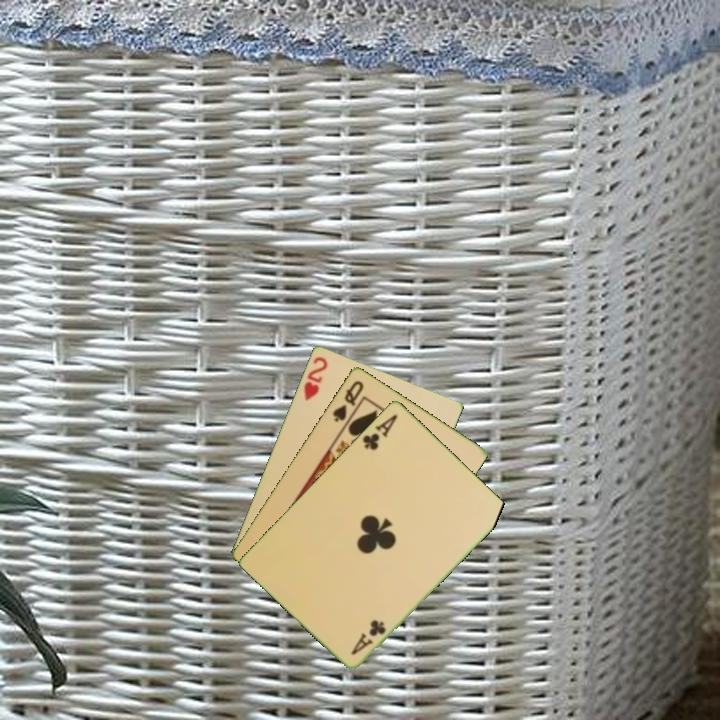2h: (300, 353, 330, 404)
Ac: (359, 410, 401, 453), (348, 616, 389, 658)
Qs: (329, 376, 366, 425)
